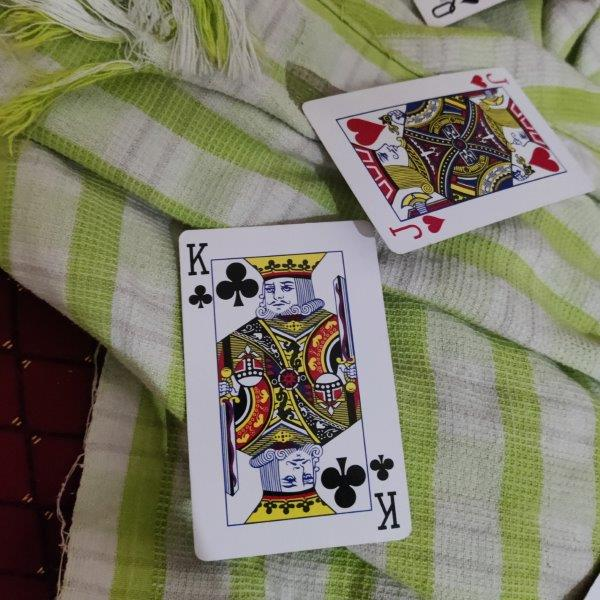Jack of Hearts: (301, 67, 600, 256)
King of Clubs: (177, 219, 414, 561)
Queen of Spades: (413, 1, 508, 27)
